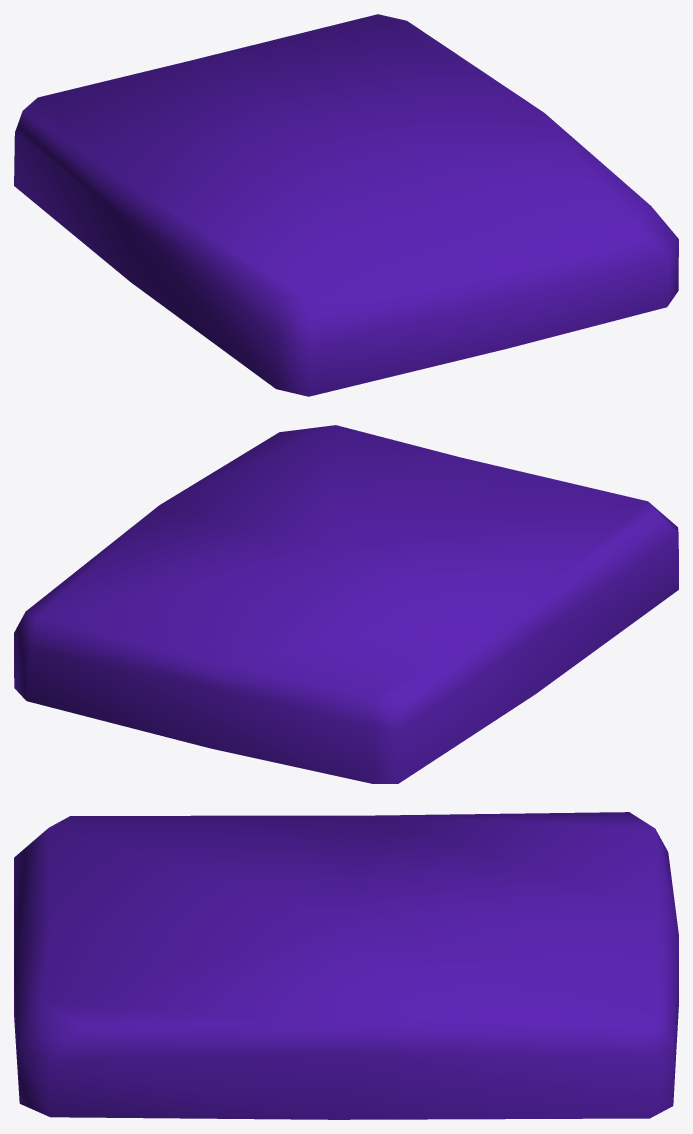
The model's file is flor_stone_04.FBX.
3 views of the same model, one above another, from view 1: azimuth 30°, elevation 25°; view 2: azimuth 150°, elevation 25°; view 3: azimuth 270°, elevation 25° (orthographic). The views are drawn at different scales.
Visible parts, largest first — view 1: flor_stone_04; view 2: flor_stone_04; view 3: flor_stone_04.
Boxes of the visible parts, box(x1,y1,x2,y2) form: flor_stone_04: box(14, 14, 678, 396); flor_stone_04: box(14, 425, 678, 783); flor_stone_04: box(14, 812, 678, 1119).
Bounding box in the file's own units: 12.9 × 2.56 × 16.51.
